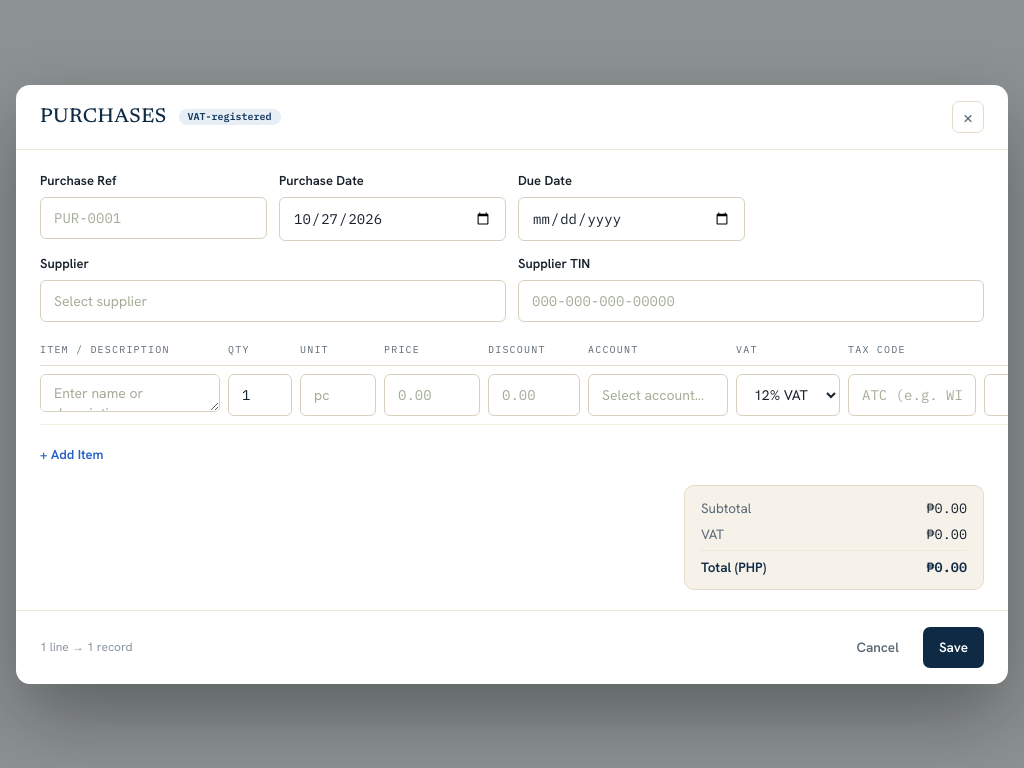
Test: TransactionEntryModal — invoice/bill line-item entry › lists expense-class accounts before revenue accounts on a Bill
Focus the field with placeholder "Select account…": (658, 394) [588,374,728,416]
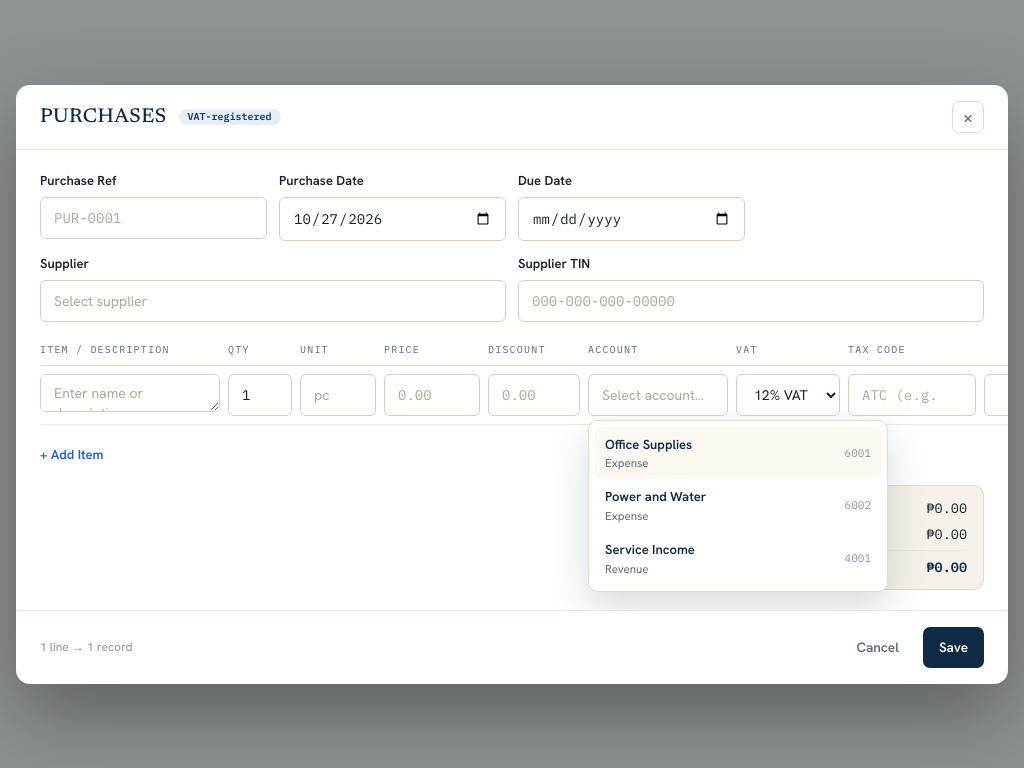
Expected: the text "Office Supplies" is shown, [605,434,692,454]
